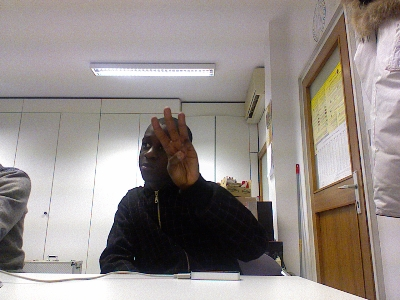三分: (150, 106, 199, 187)
